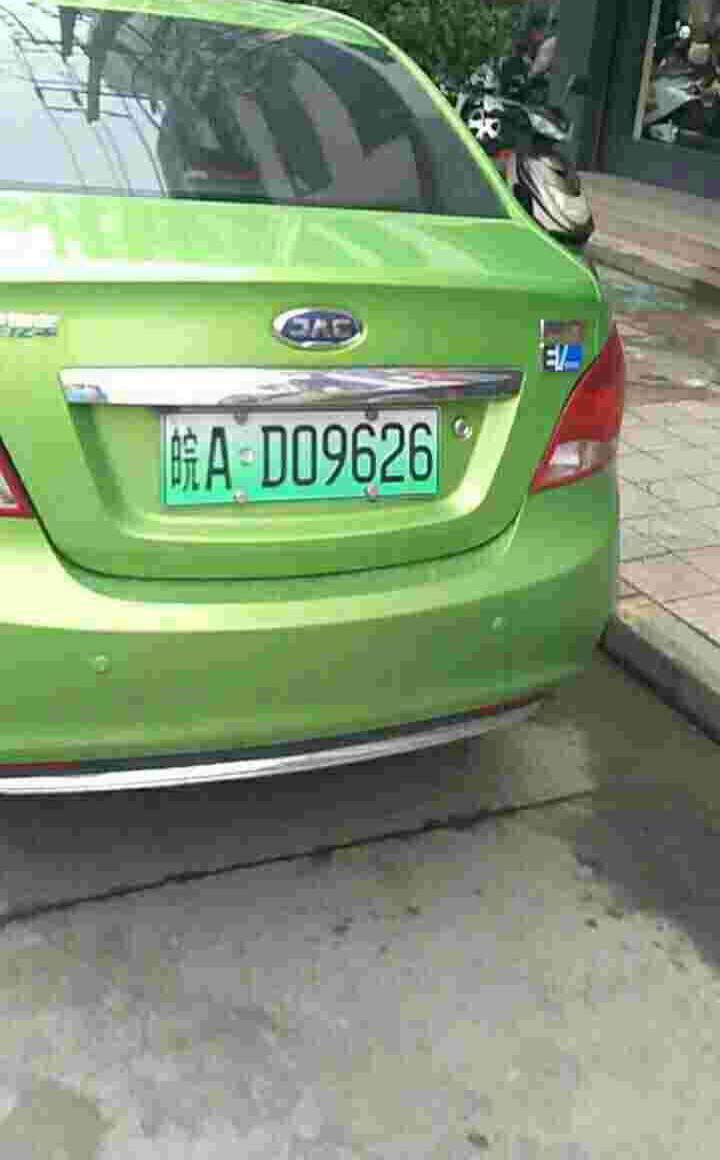car_id: (162, 408, 438, 503)
